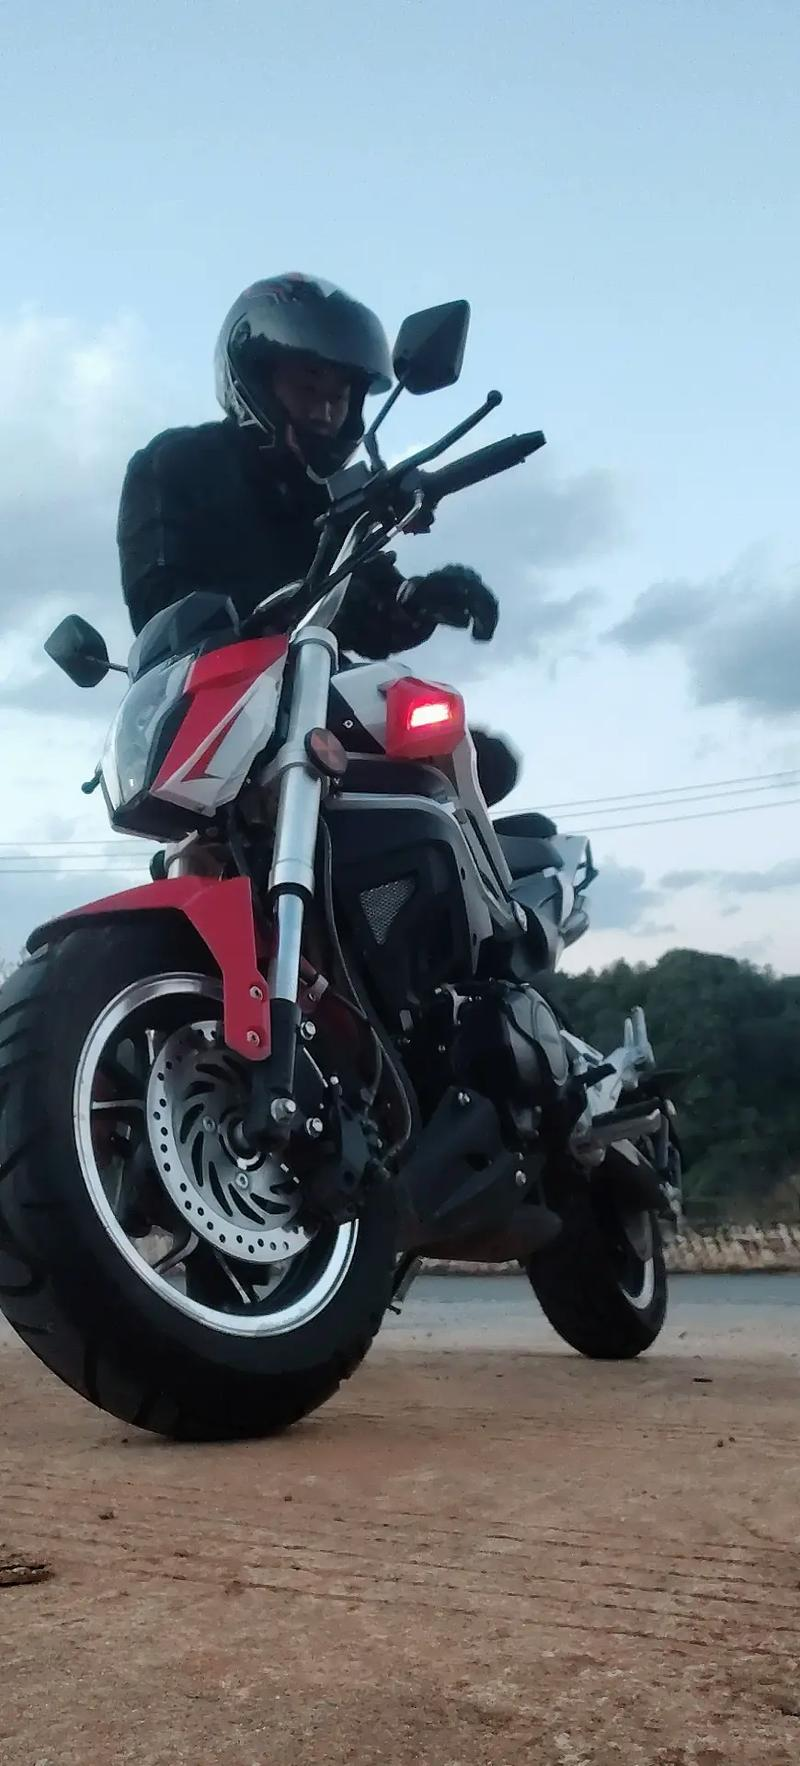摩托车: (1, 579, 720, 1425)
